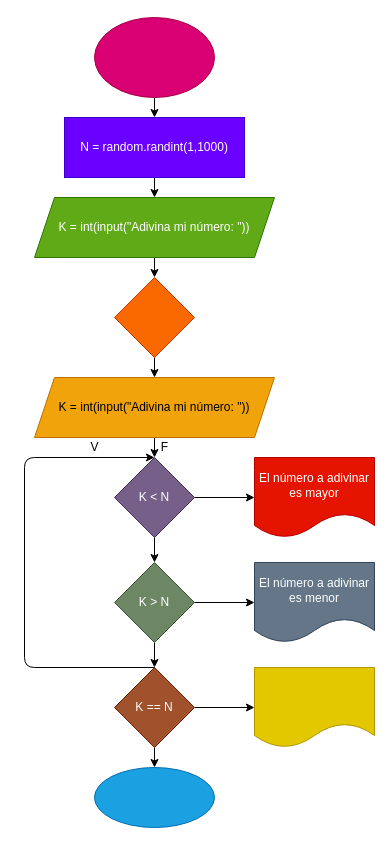
This 392x845 diagram has some shape labels left out. Here are the shapes that lost their labels. From the top down, the box of each, then its label:
(94, 16, 214, 98): INICIO
(114, 276, 194, 358): N != K
(254, 666, 374, 748): "¡MUY BIEN! Has acertado, el número es: " , N,"lo hiciste en:" ,rand,"intentos"
(94, 766, 214, 828): FIN
